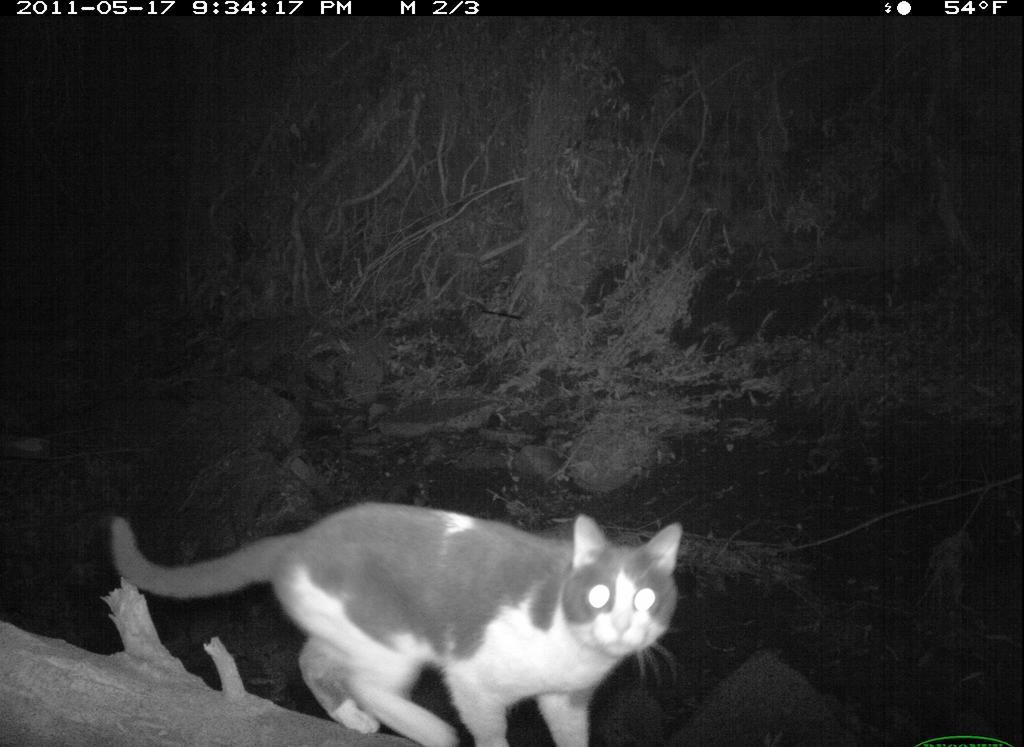cat: (95, 497, 699, 745)
